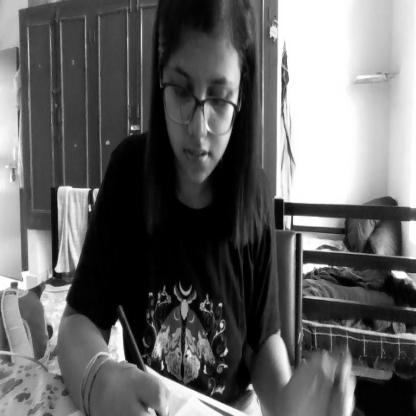Normal: (156, 0, 248, 193)
